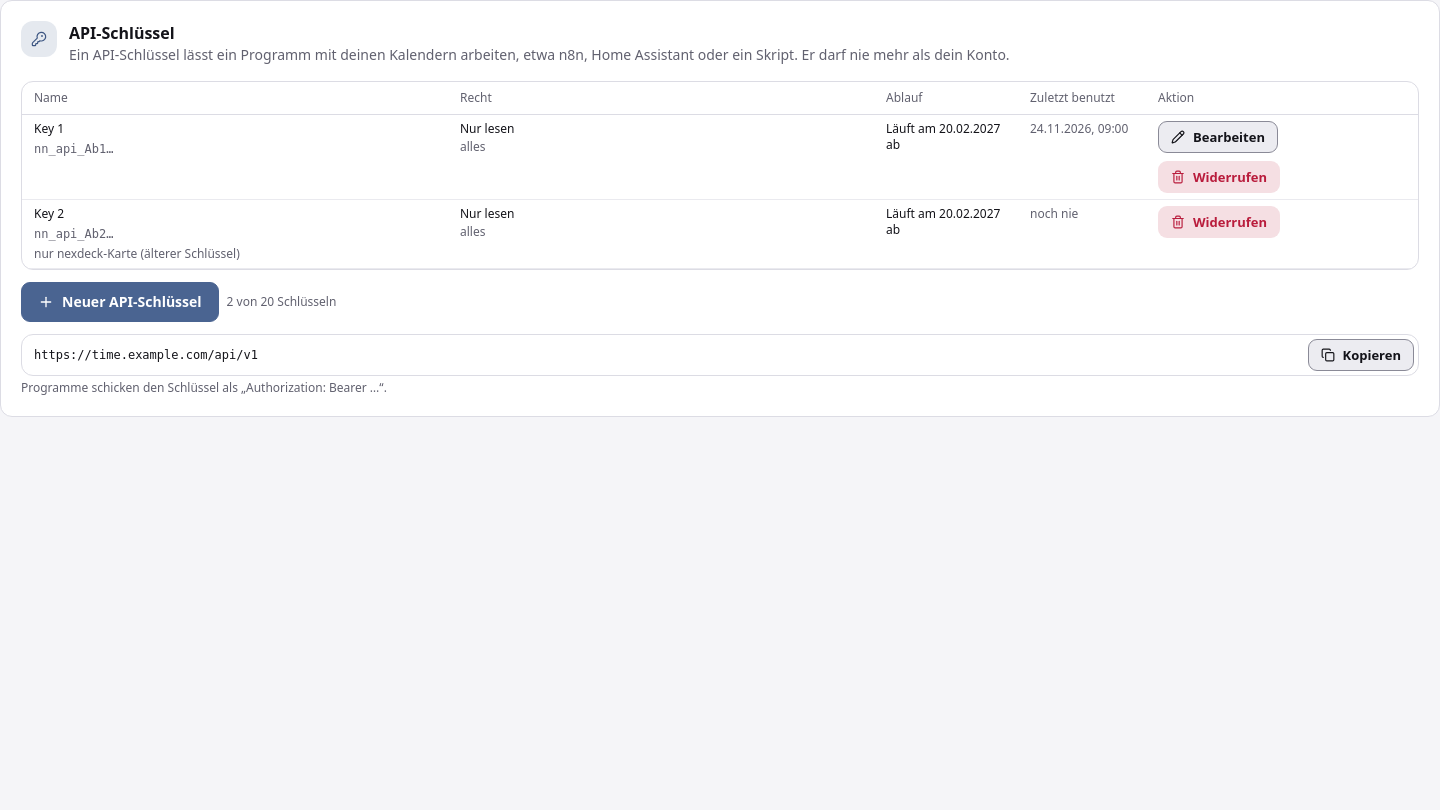
Test: the card API-Schlüssel › asks before revoking and then revokes
Later steps or results of the test are not shown.
What coordinates should you click on to do the following:
click the button with test id "key-revoke"
I would click on:
 (1219, 177)
Its box is top-left (1158, 161), bottom-right (1280, 193).
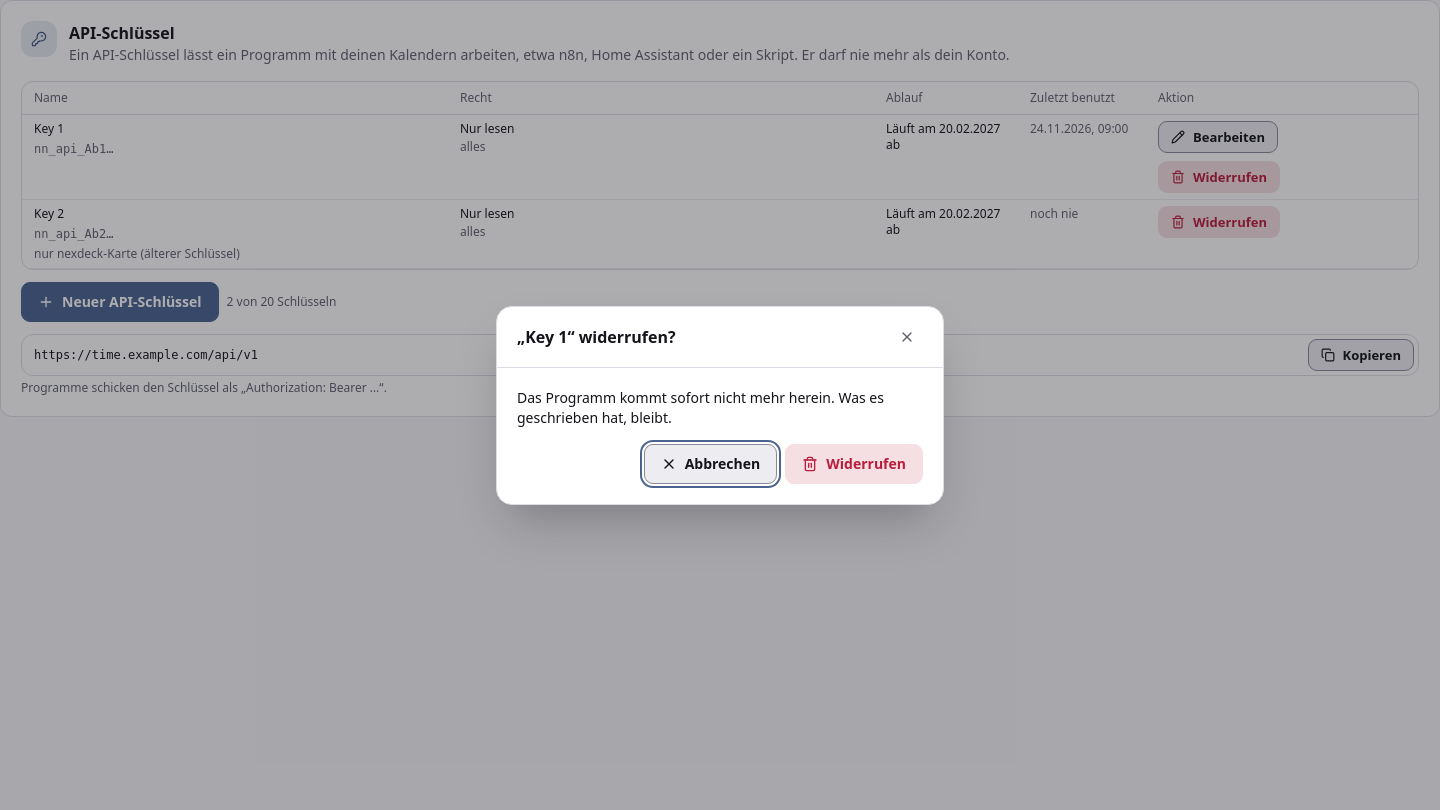
Result: the dialog with test id "key-revoke-dialog" shows "„Key 1“ widerrufen?" at top-left (517, 326), bottom-right (676, 348)
Result: the submit button is shown at top-left (785, 444), bottom-right (923, 484)
